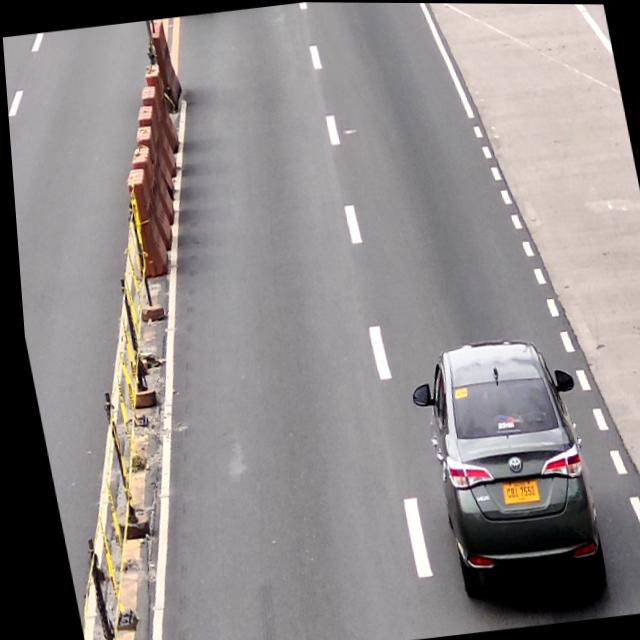Car: (397, 329, 607, 608)
License-Plate: (494, 478, 533, 505)
